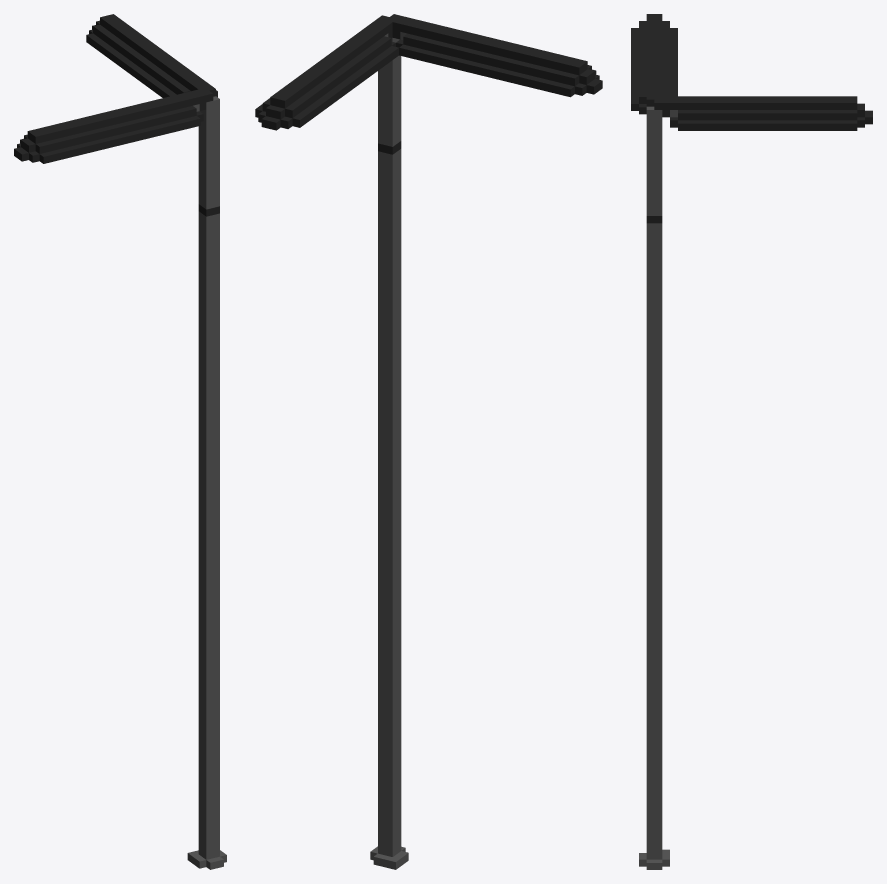
File: lampTwo.glb
3 views of the same model, side by side, from view 1: azimuth 30°, elevation 25°; view 2: azimuth 150°, elevation 25°; view 3: azimuth 270°, elevation 25° (orthographic). The views are drawn at different scales.
Visible parts, largest first — view 1: ObjObject; view 2: ObjObject; view 3: ObjObject.
Boxes of the visible parts, left/top/right/bottom form: ObjObject: left=14, top=14, right=226, bottom=869; ObjObject: left=255, top=14, right=602, bottom=869; ObjObject: left=631, top=14, right=872, bottom=869.
Bounding box in the file's own units: 3.1 × 10.8 × 3.1.
Materials: 2 (1 with a texture image).
